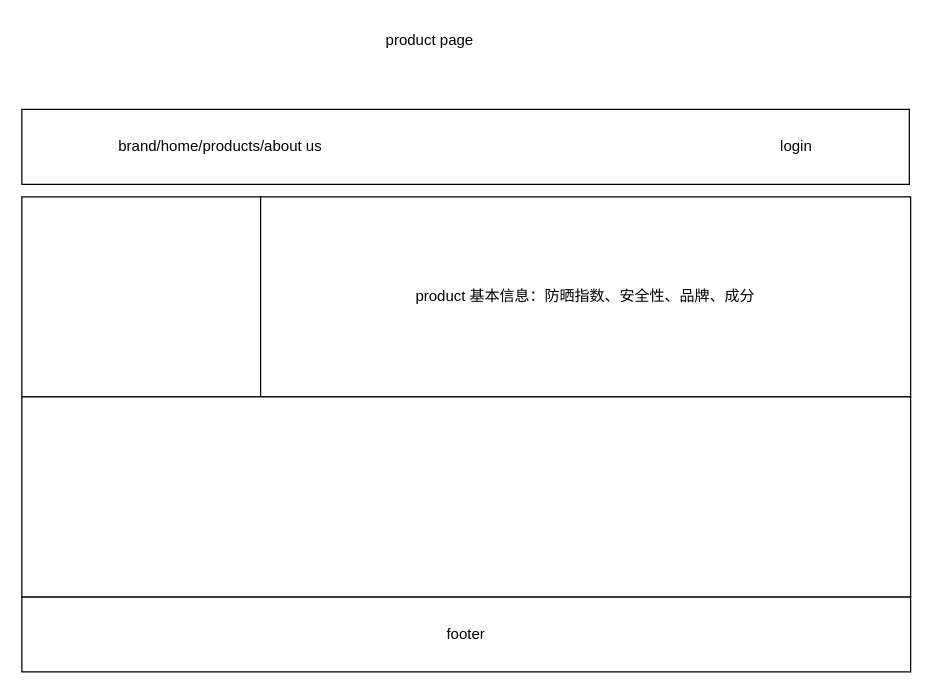
Image size: 933x694. Some labels were removed from this diagram. Each missing label, with the centre of its shape:
"input：安全；结论，可以在海边使用/含有害成分：名称、介绍；结论，不推荐使用" belongs at (466,496).
"图片" belongs at (141,296).
